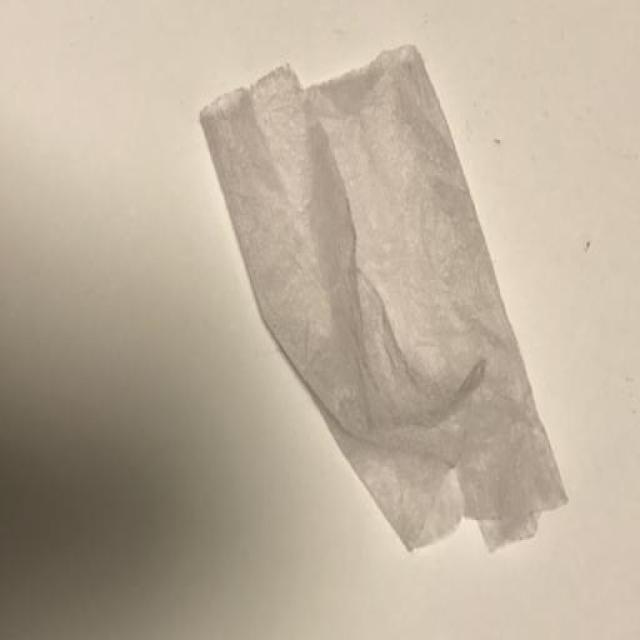Random Trash: (198, 45, 569, 555)
